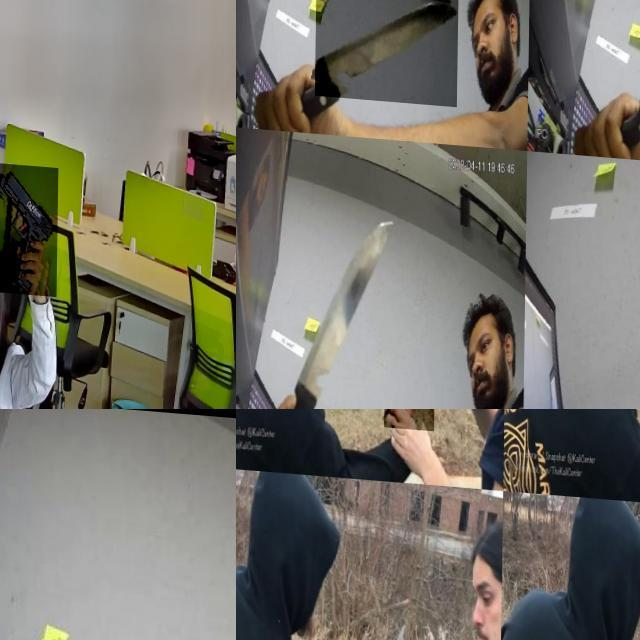-: (295, 203, 392, 409), (315, 0, 458, 102), (384, 409, 436, 467), (375, 612, 410, 640)
gun-knife-thesis - v11 Yolov5 augmented: (0, 158, 59, 290)
